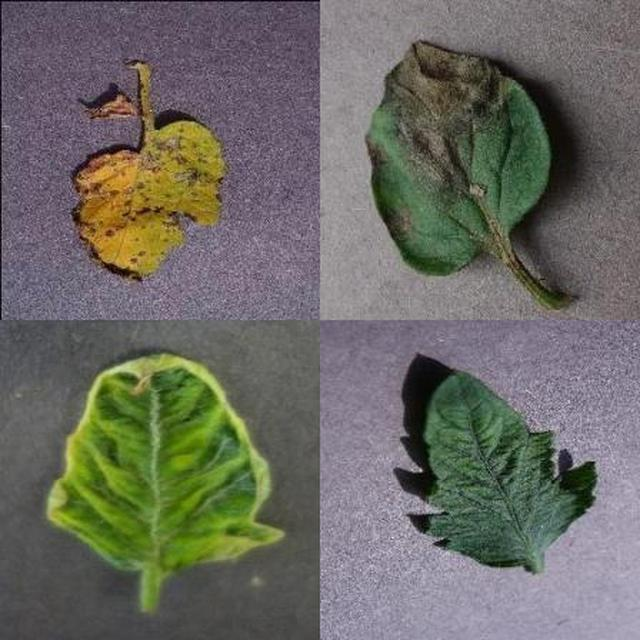Septoria Leaf: (210, 224, 640, 640)
